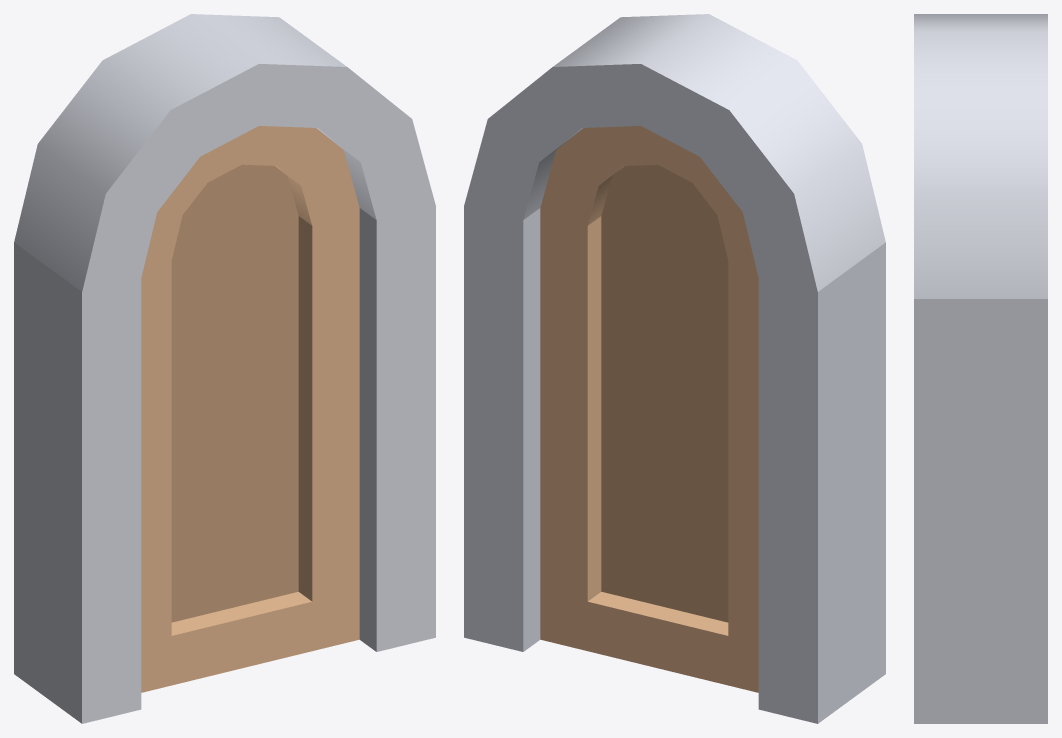
3 renders of one model, left to right at view 1: azimuth 30°, elevation 25°; view 2: azimuth 150°, elevation 25°; view 3: azimuth 270°, elevation 25°, orthographic.
Parts seen in each view (by area): view 1: doorClosed; view 2: doorClosed; view 3: doorClosed.
Boxes of the visible parts, box(x1,y1,x2,y2) form: doorClosed: box(14, 14, 435, 723); doorClosed: box(464, 14, 885, 723); doorClosed: box(914, 14, 1047, 723).
Bounding box in the file's own units: 0.6 × 1 × 0.2.
